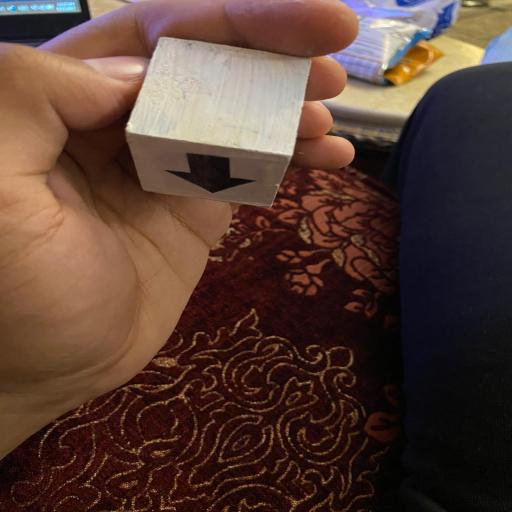Down: (123, 38, 311, 207)
